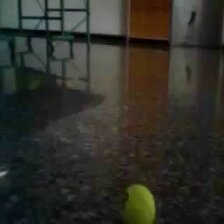tennis: (121, 184, 155, 224)
